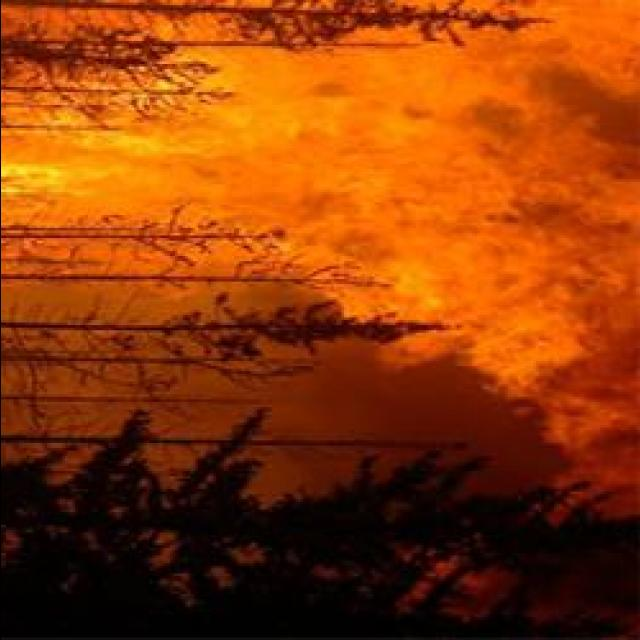fire: (244, 52, 406, 146), (448, 132, 602, 226), (0, 131, 172, 197), (471, 287, 569, 381), (562, 5, 640, 90)
